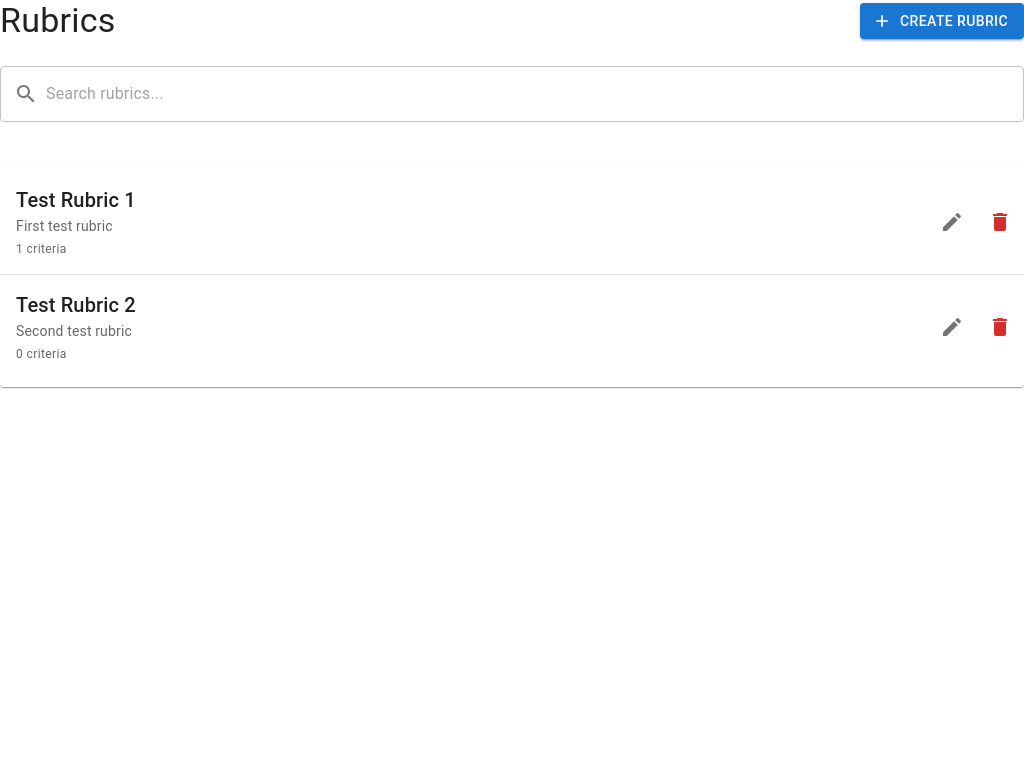
Test: RubricsListPage › opens delete confirmation dialog
What coordinates should you click on to do the following:
click the 1st button named "delete"
I would click on:
 (1000, 222)
Its box is [980,202,1020,242].
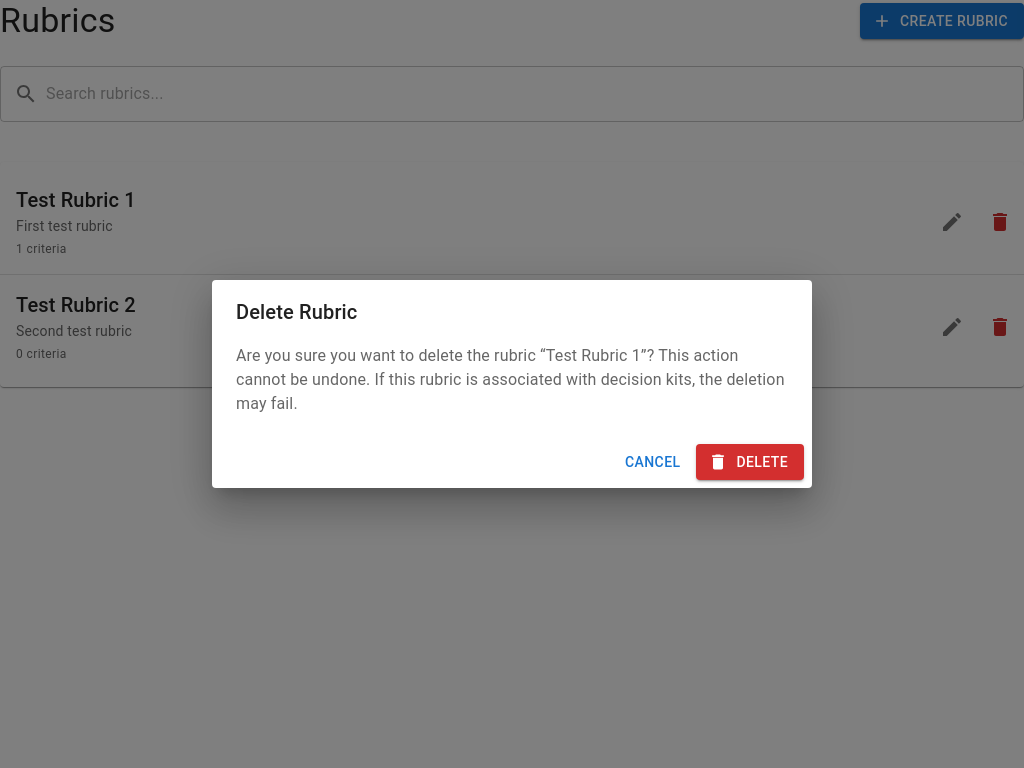
Expected: the heading "Delete Rubric" is shown, [236,300,358,324]
Expected: the text "Are you sure you want to delete" is shown, [236,346,546,365]
